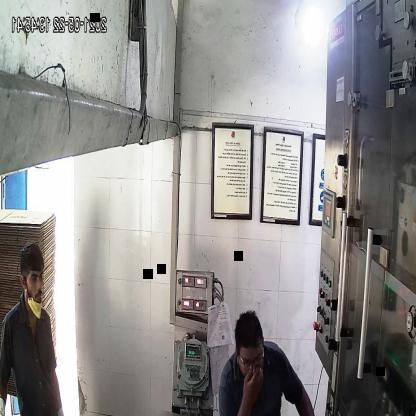goggles: (237, 347, 266, 372)
no_goggles: (23, 266, 45, 284)
